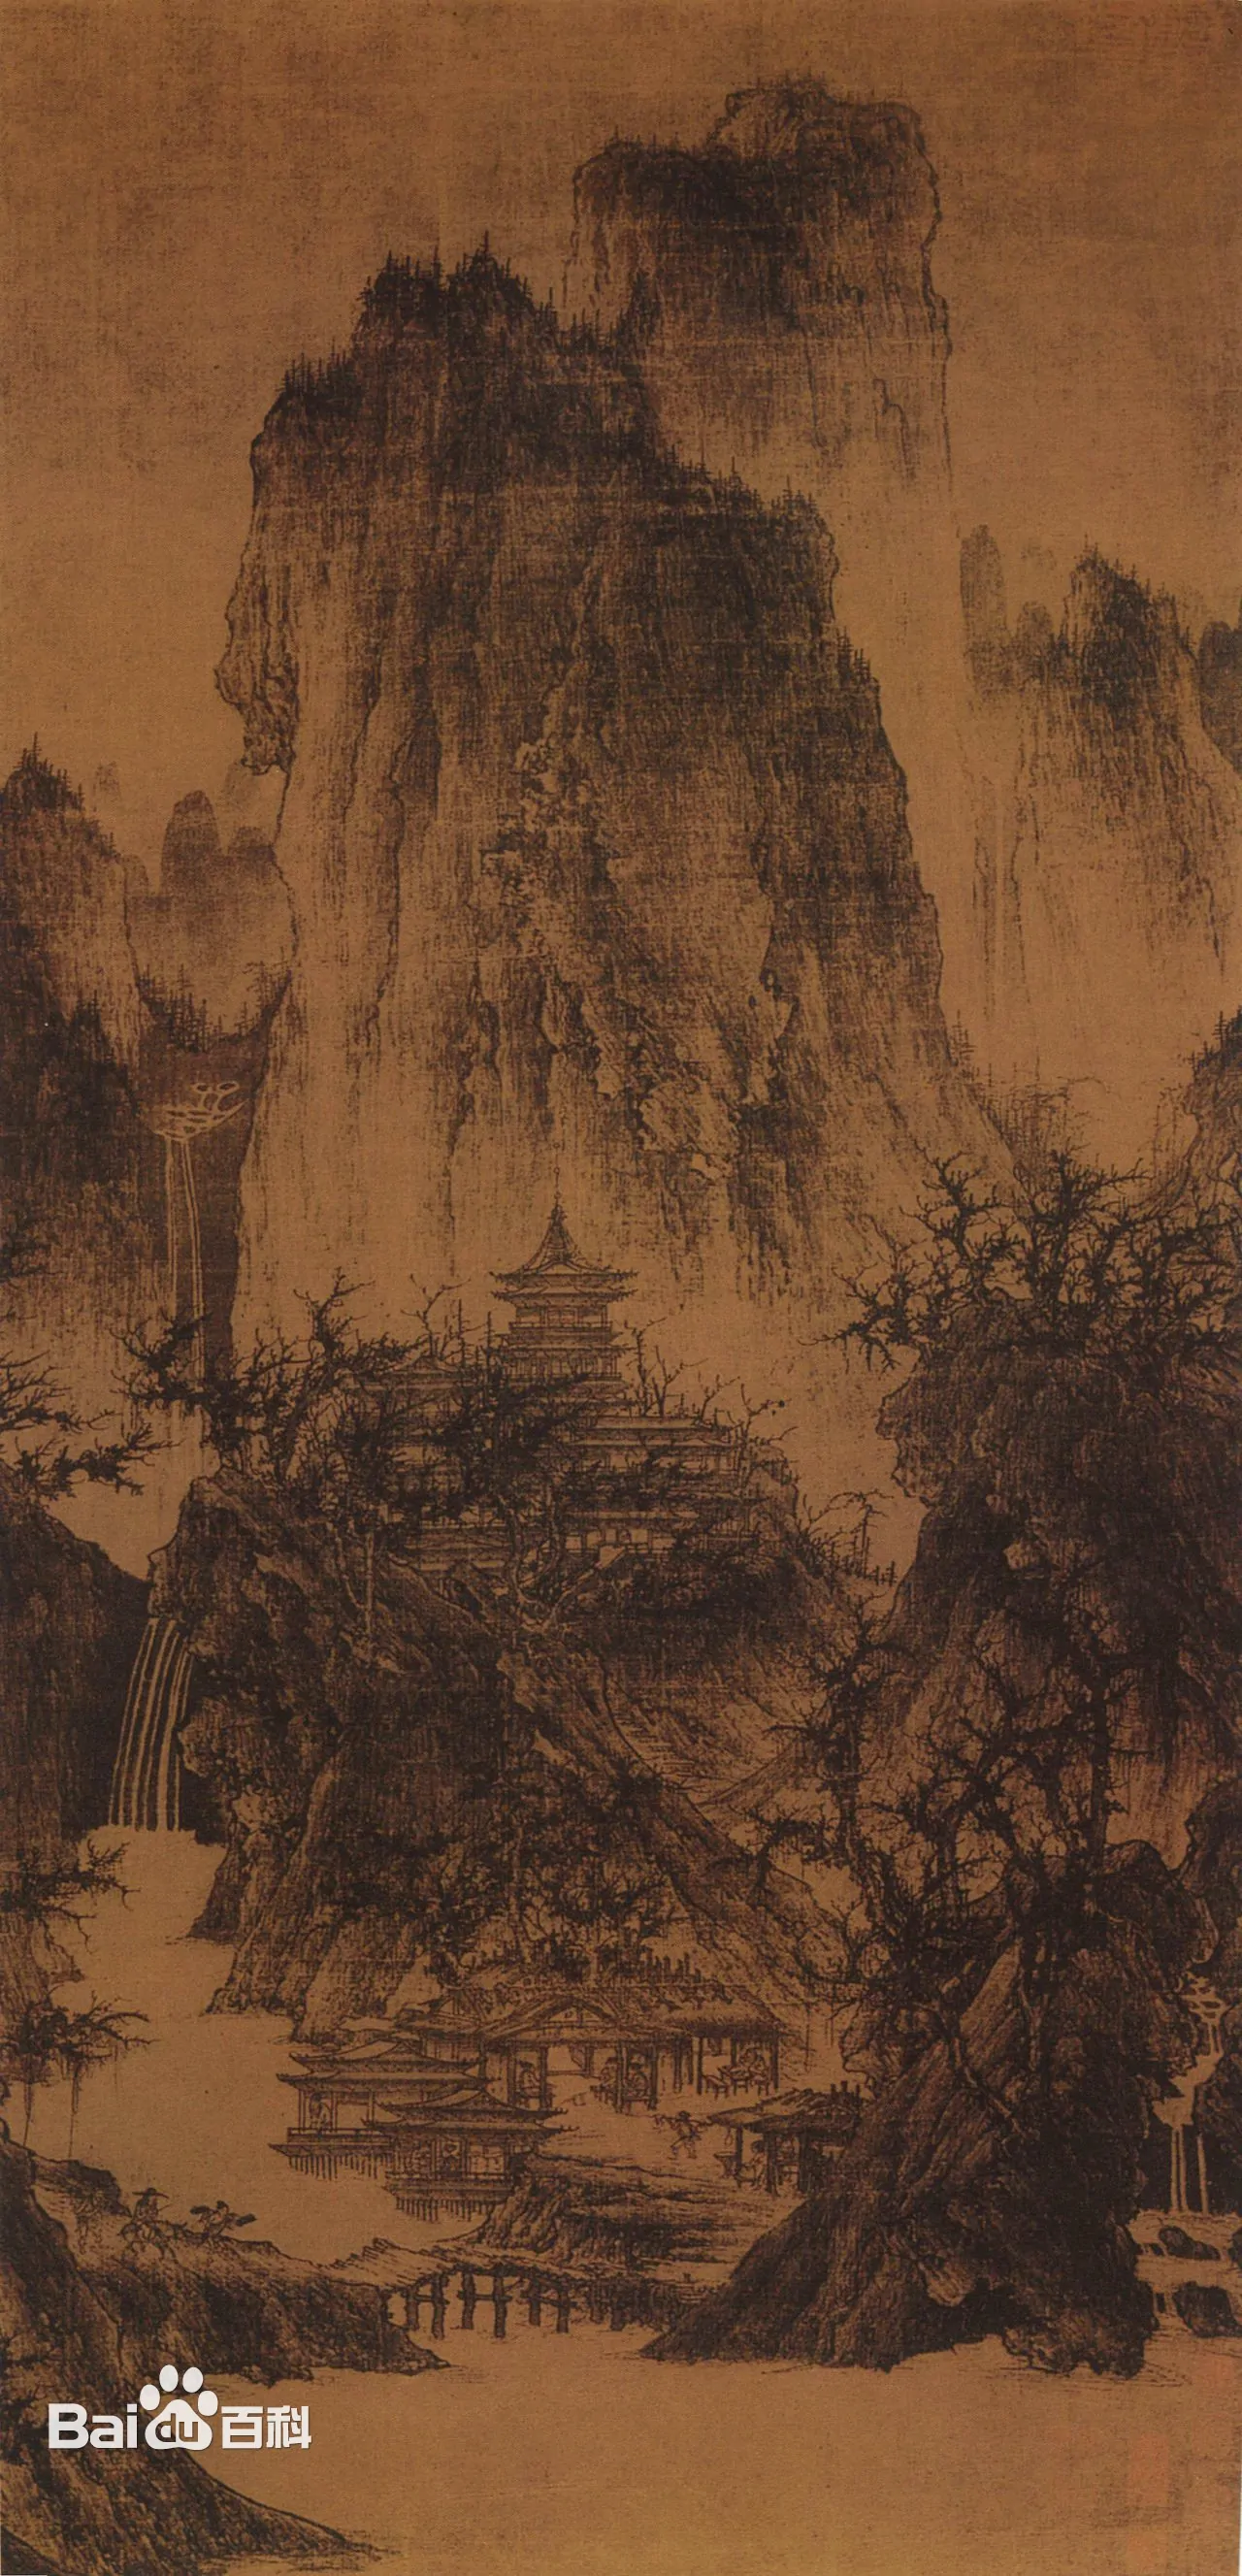bridge: (325, 2216, 646, 2357)
house: (283, 1932, 856, 2177), (480, 1209, 655, 1395)
mountain: (218, 233, 867, 1239), (552, 89, 982, 490), (940, 540, 1242, 1058)
tree: (785, 1613, 1120, 1886), (867, 1153, 1242, 1359), (7, 1838, 136, 2155)
